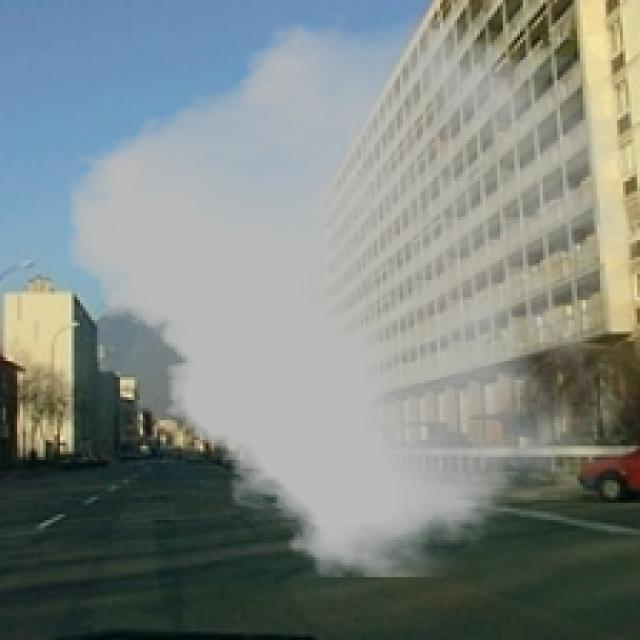Smoke: (68, 14, 638, 577)
